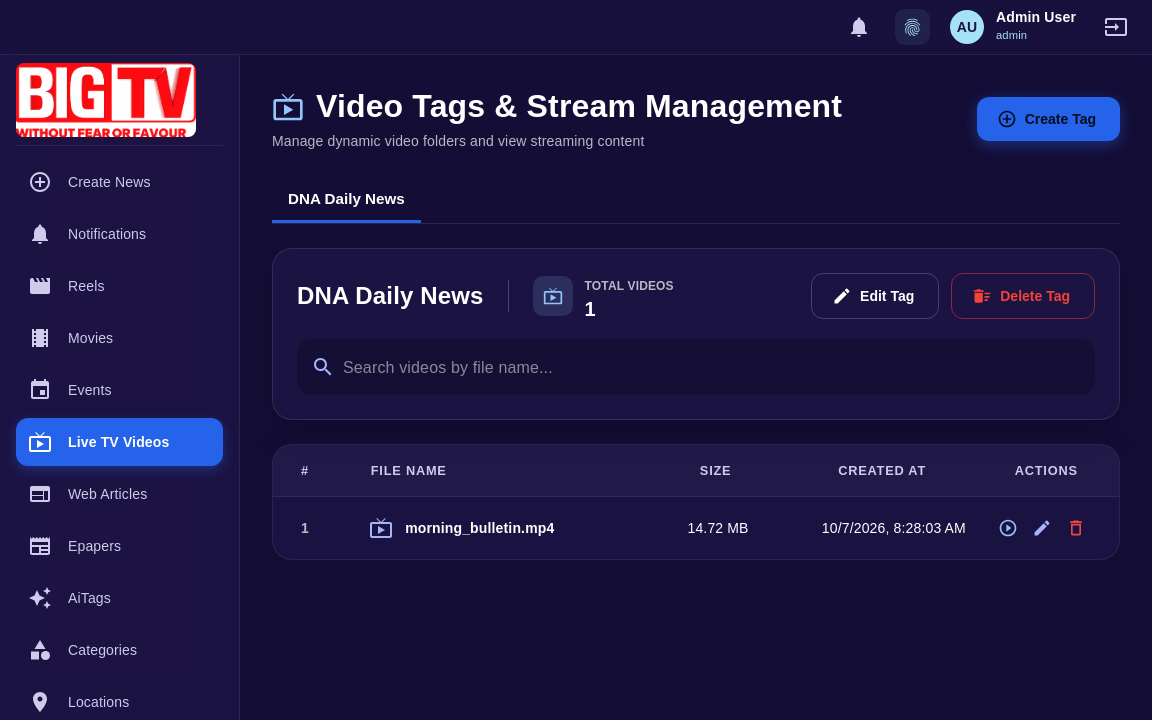
LiveTvVideos Module - Folder-Based Video Tags Integration › deletes a tag with confirmation dialog
What coordinates should you click on to do the following:
click the button "Delete Tag"
I would click on:
 (1023, 296)
Its box is [951,272,1095,319].
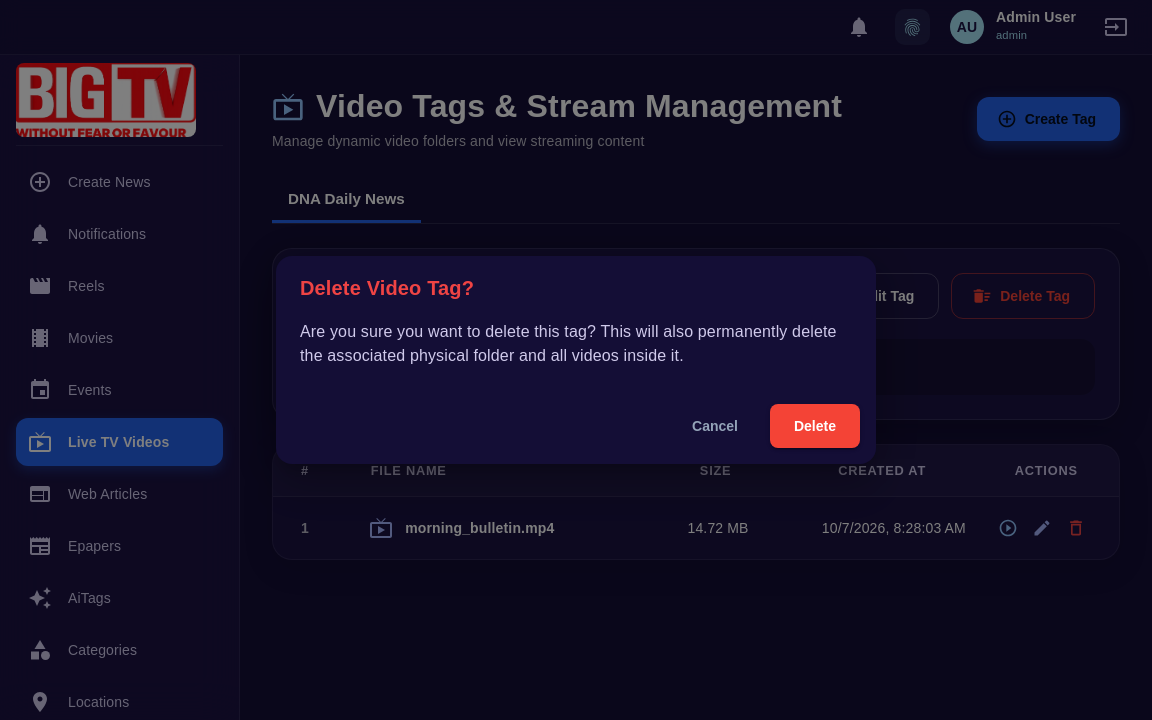
Expected: the heading "Delete Video Tag?" is shown, [300,277,474,299]
What coordinates should you click on to do the following:
click the button "Delete"
I would click on:
 (815, 426)
Its box is [770,404,860,448].
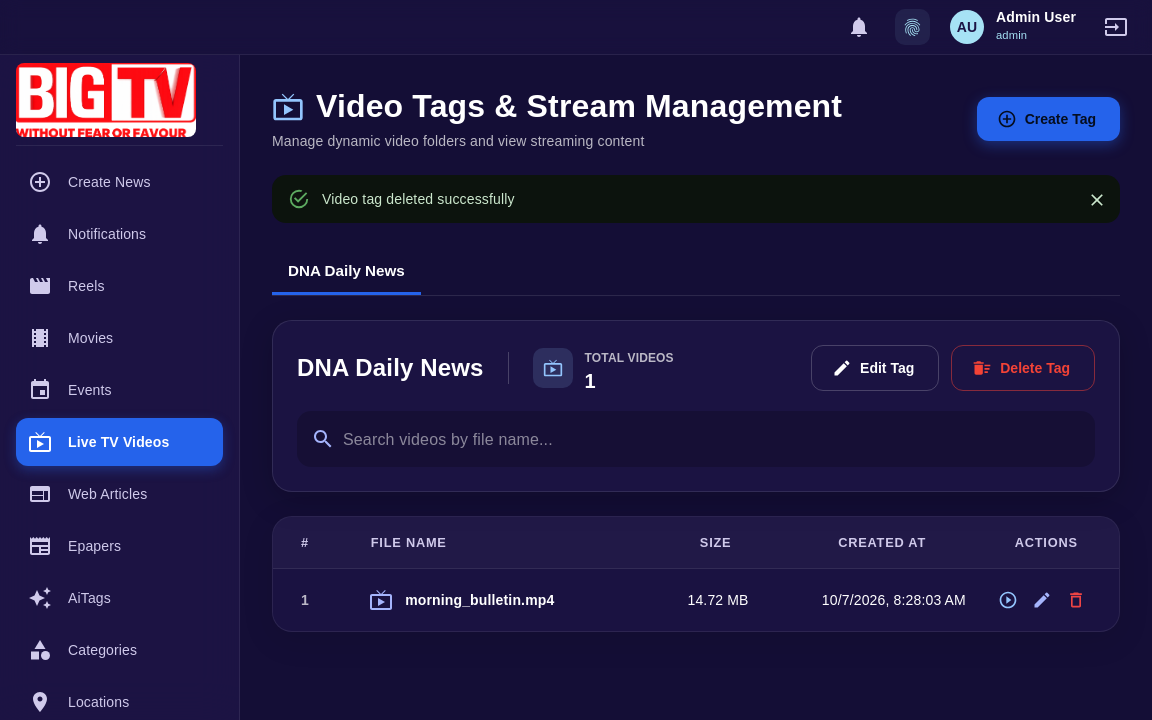
Expected: the text "Video tag deleted successfully" is shown, [322,190,515,206]
